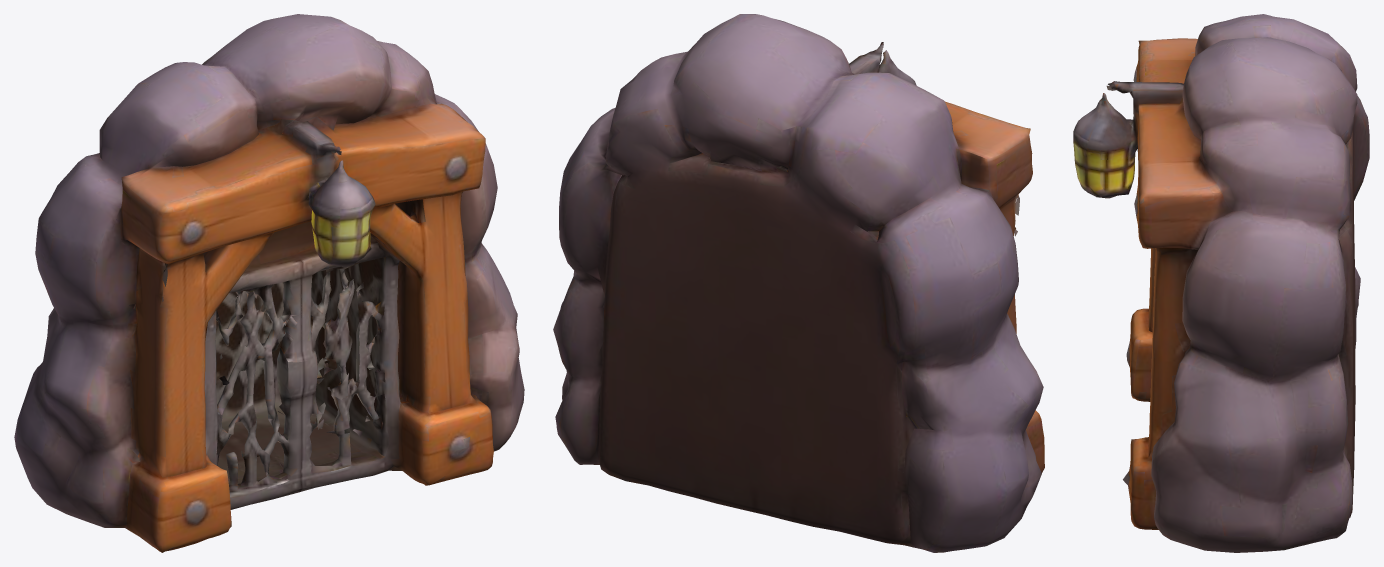
Rendered from mine-elevator.glb.
The picture shows the model from 3 angles, left to right: view 1: azimuth 30°, elevation 25°; view 2: azimuth 150°, elevation 25°; view 3: azimuth 270°, elevation 25°; orthographic projection. The views are drawn at different scales.
Parts seen in each view (by area): view 1: tripo_node_63e5206e-760f-48c2-90b7-8739dd52565b; view 2: tripo_node_63e5206e-760f-48c2-90b7-8739dd52565b; view 3: tripo_node_63e5206e-760f-48c2-90b7-8739dd52565b.
Part boxes in pixels (x1,y1,x2,y2): tripo_node_63e5206e-760f-48c2-90b7-8739dd52565b: [14, 14, 524, 552]; tripo_node_63e5206e-760f-48c2-90b7-8739dd52565b: [553, 14, 1044, 552]; tripo_node_63e5206e-760f-48c2-90b7-8739dd52565b: [1073, 14, 1369, 552].
Bounding box in the file's own units: 0.9922 × 0.8982 × 0.5641.
Materials: 1 (1 with a texture image).
